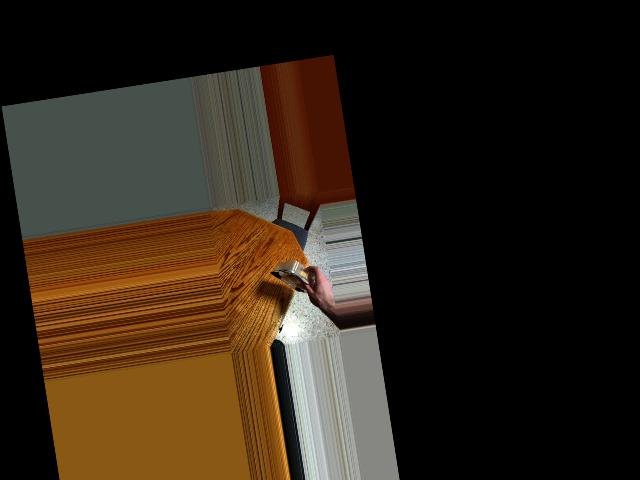cheese: (272, 246, 319, 302)
